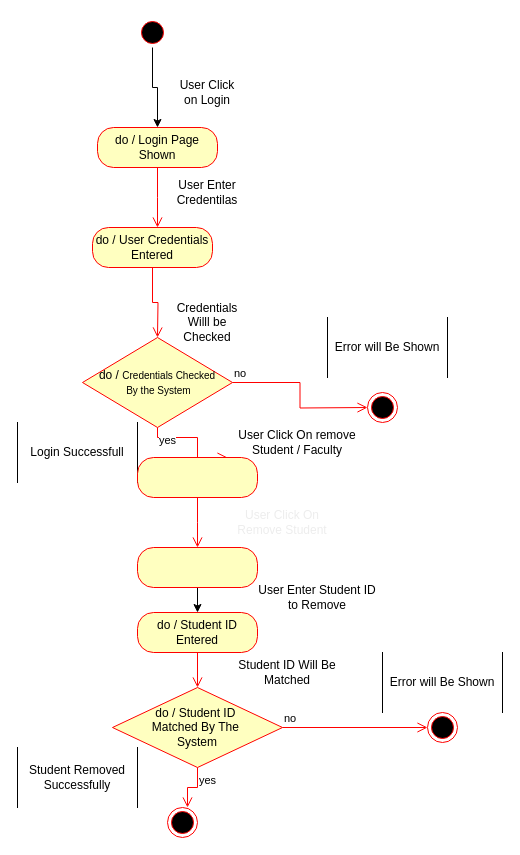
Image size: 520x855. Some labels were removed from this diagram. Here are the shapes that lost their labels. From the top down, the centre of each, then its label:
At point 197,477: "do / Remove Student / Faculty Displayed".
At point 197,567: "do / Remove Student Displayed".
